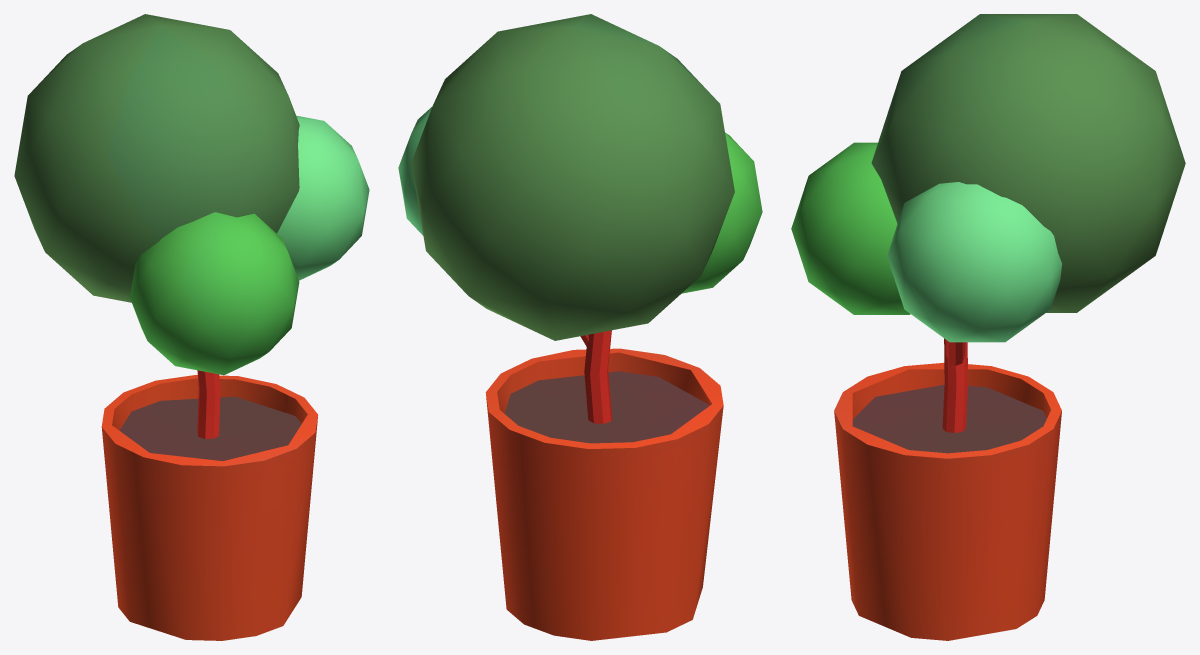
File: plant2.glb
The picture shows the model from 3 angles, left to right: view 1: azimuth 30°, elevation 25°; view 2: azimuth 150°, elevation 25°; view 3: azimuth 270°, elevation 25°; orthographic projection. The views are drawn at different scales.
Bounding box in the file's own units: 0.3255 × 0.5818 × 0.3622.
Materials: 1 (1 with a texture image).
